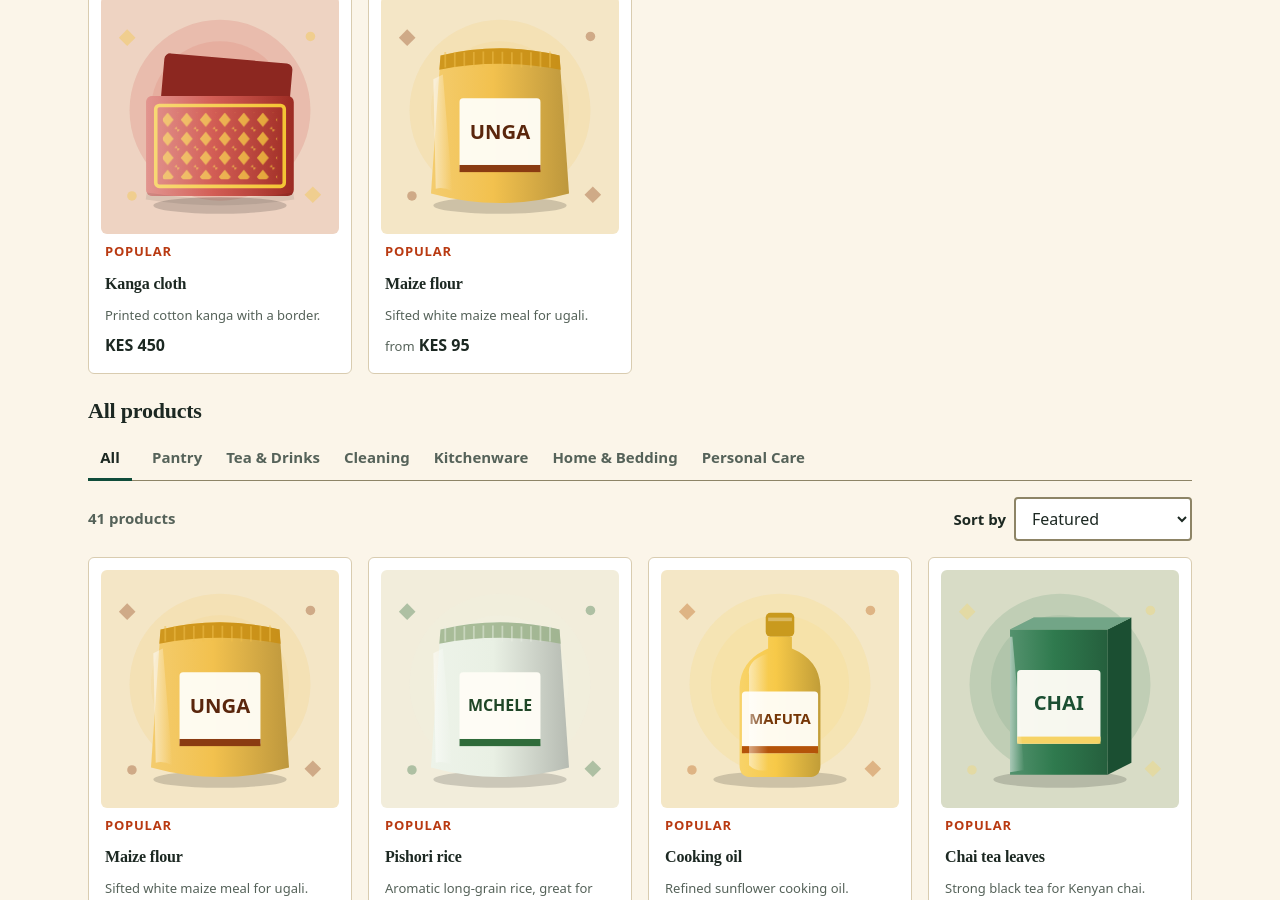
Test: hero and filters › marks the current category for assistive tech
(page scrolled)
Click the button "Pantry" at [177, 459], box 148,437 -> 206,481
(page scrolled)
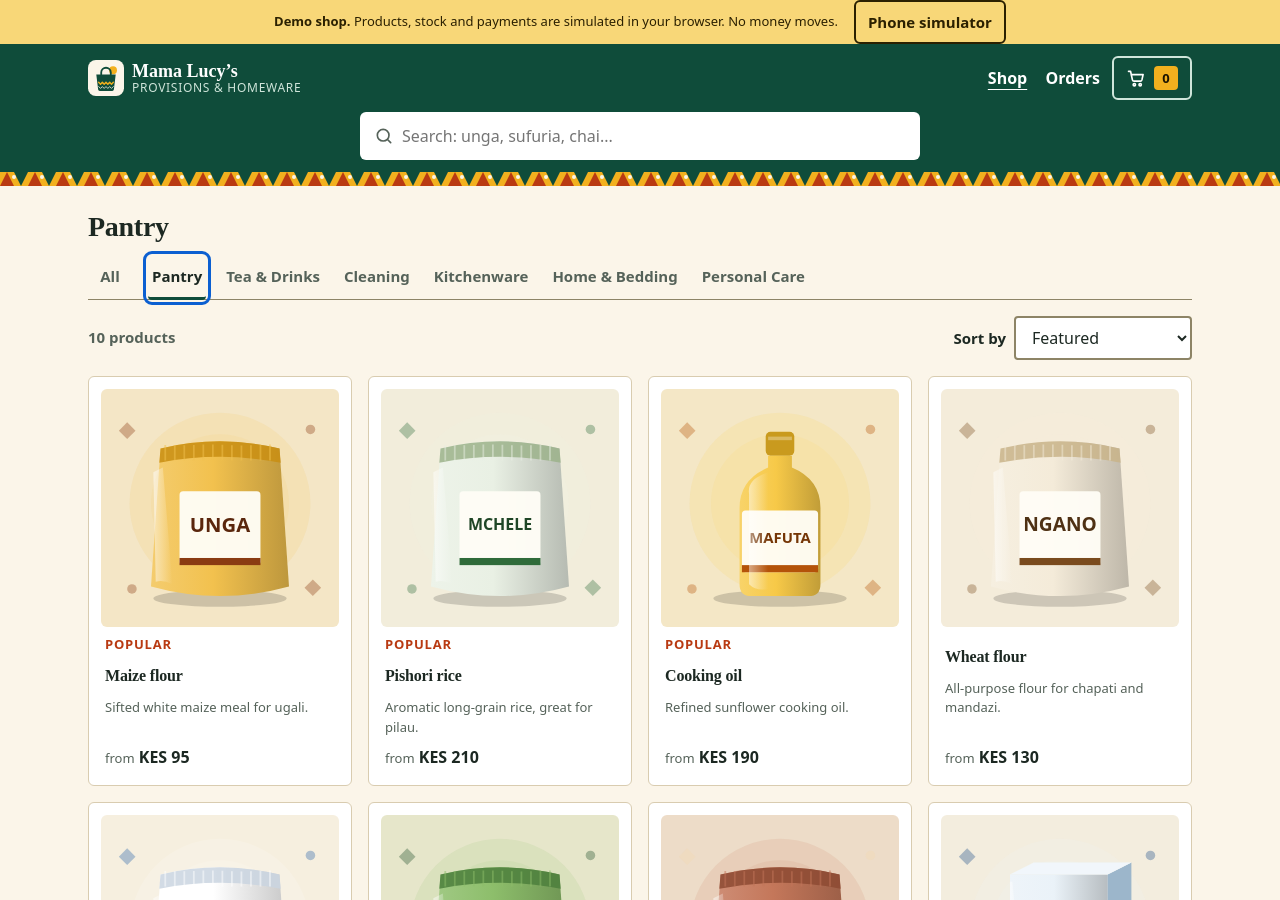
Result: the button "Pantry" is pressed at 148,256 -> 206,300
